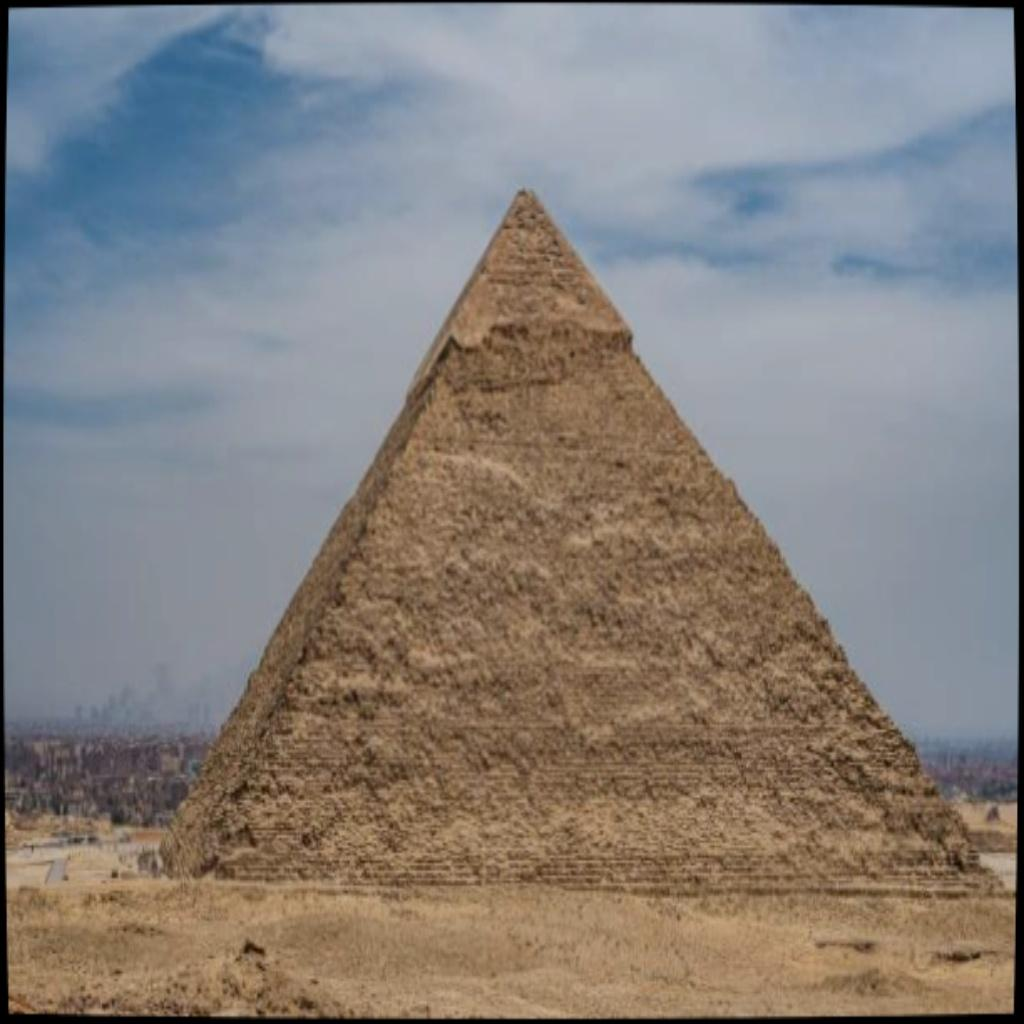Great Pyramids of Giza: (150, 181, 998, 903)
